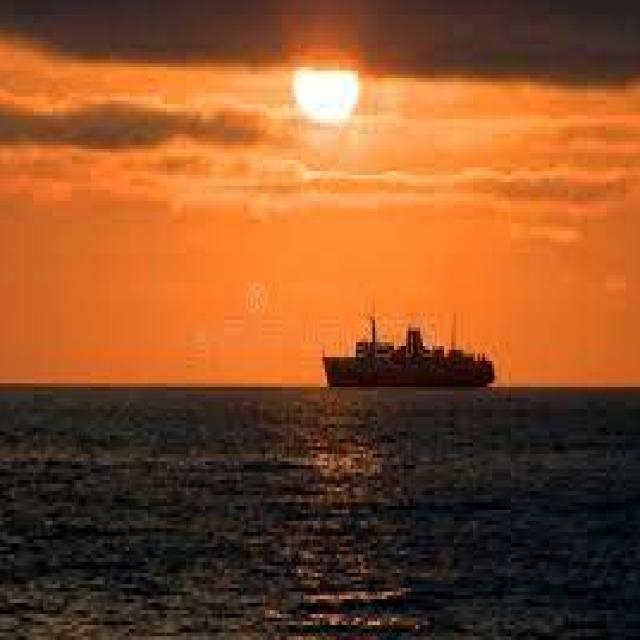cargoship: (320, 310, 498, 386)
